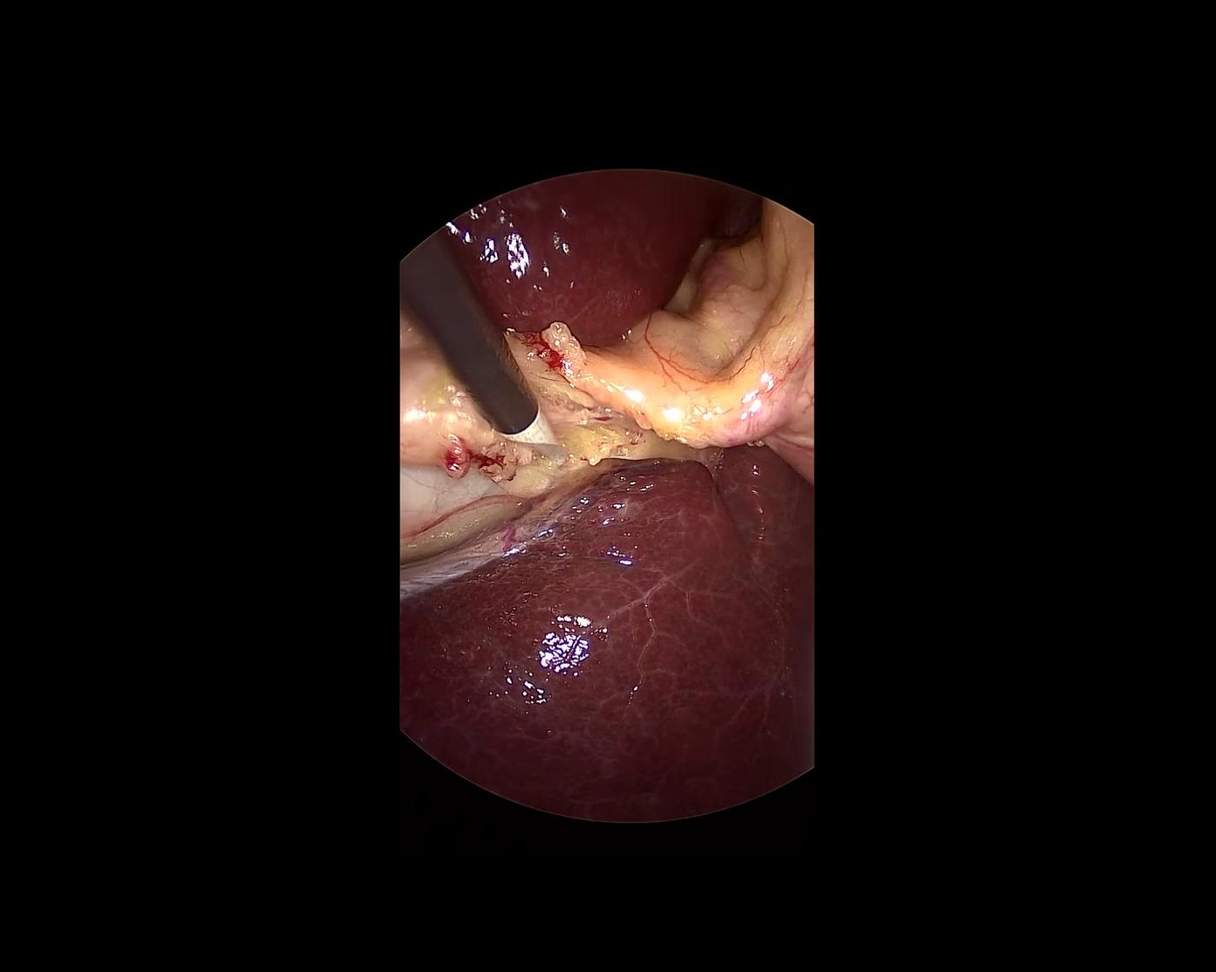Cautery: (379, 225, 563, 478)
Gallbladder: (400, 304, 575, 562)
Liver: (398, 442, 816, 823), (443, 134, 750, 378)
